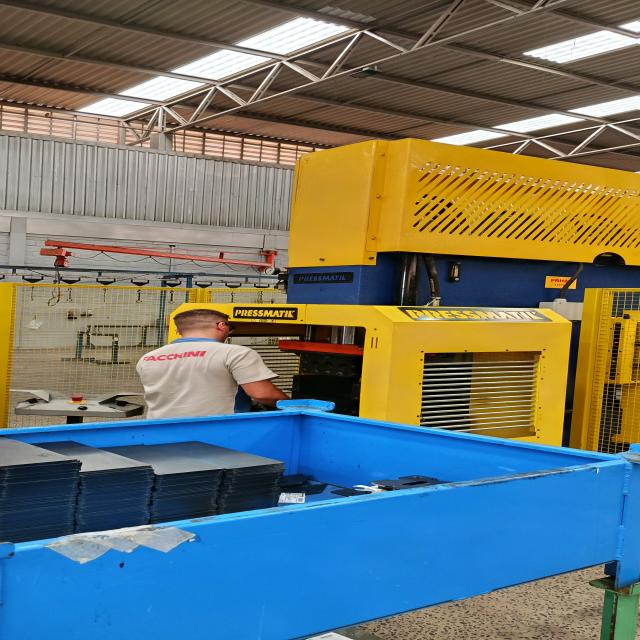oculos-epi: (216, 323, 235, 333)
